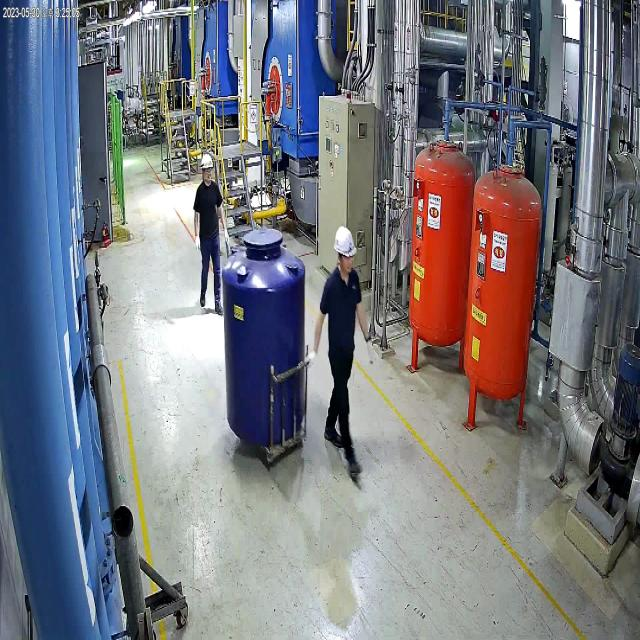Water Tank: (218, 215, 312, 471)
worker: (312, 218, 376, 491), (189, 139, 228, 318)
